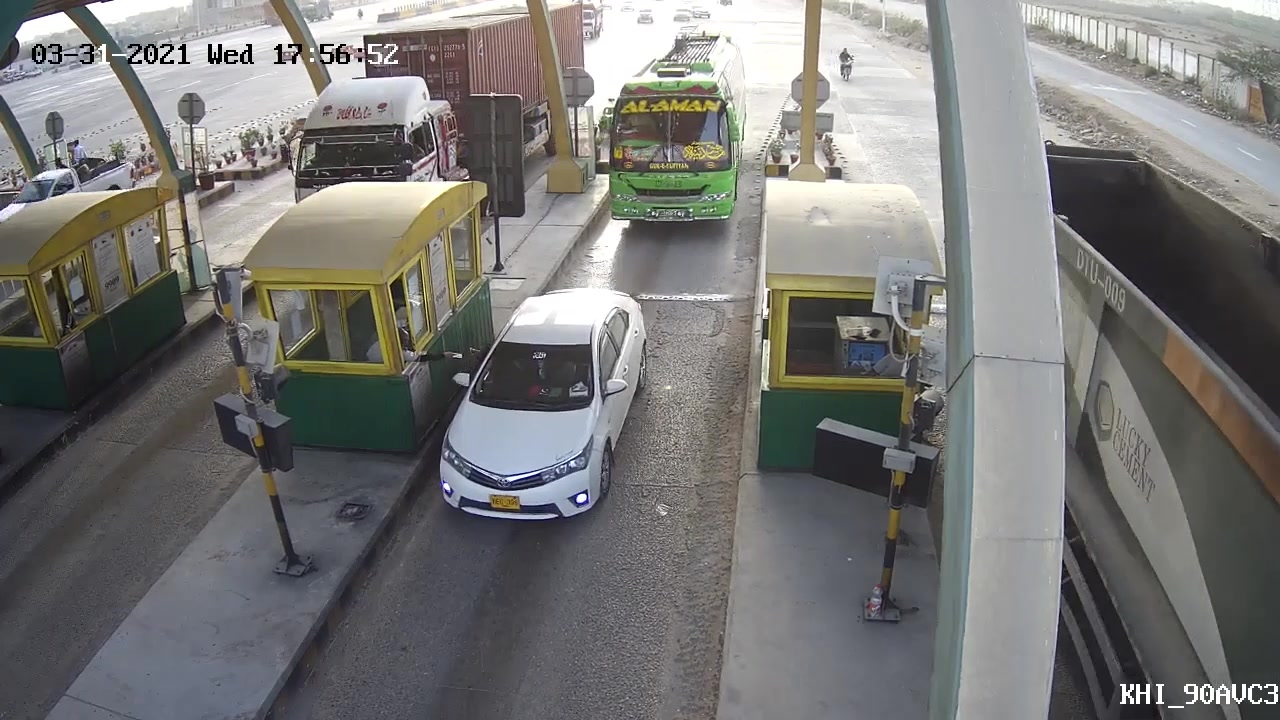F1: (429, 284, 654, 525)
F4: (592, 55, 753, 229)
